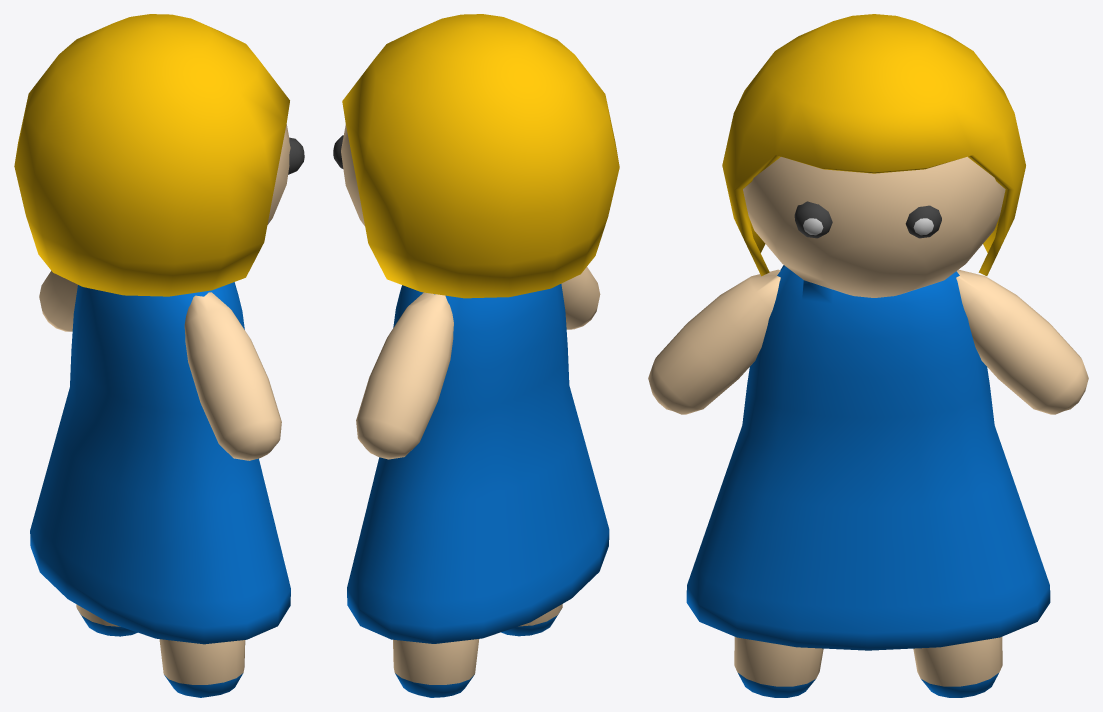
File: Doll2.fbx
3 renders of one model, left to right at view 1: azimuth 30°, elevation 25°; view 2: azimuth 150°, elevation 25°; view 3: azimuth 270°, elevation 25°, orthographic. The views are drawn at different scales.
Visible parts, largest first — view 1: Doll2; view 2: Doll2; view 3: Doll2.
Boxes of the visible parts, x1,y1,x2,y2 form: Doll2: (14,14,304,697); Doll2: (333,14,619,697); Doll2: (648,14,1088,697).
Bounding box in the file's own units: 25.02 × 62.47 × 37.55.
